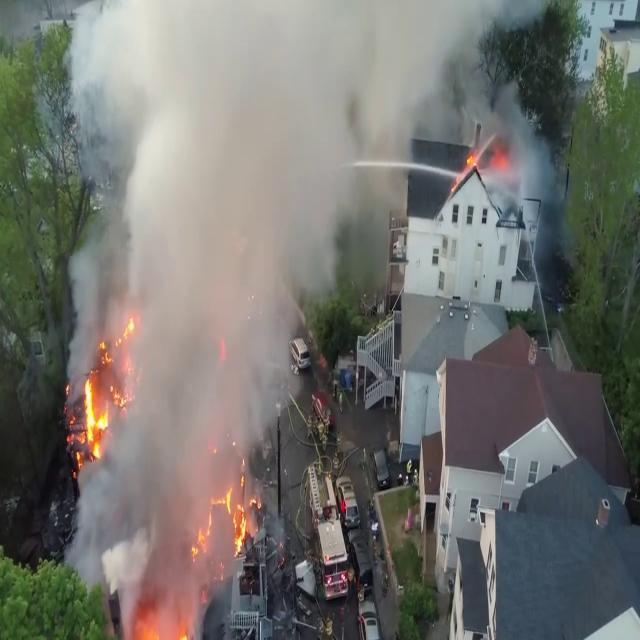Fire: (74, 317, 136, 459), (218, 474, 260, 552)
Smoke: (61, 0, 466, 482), (462, 67, 559, 241)
